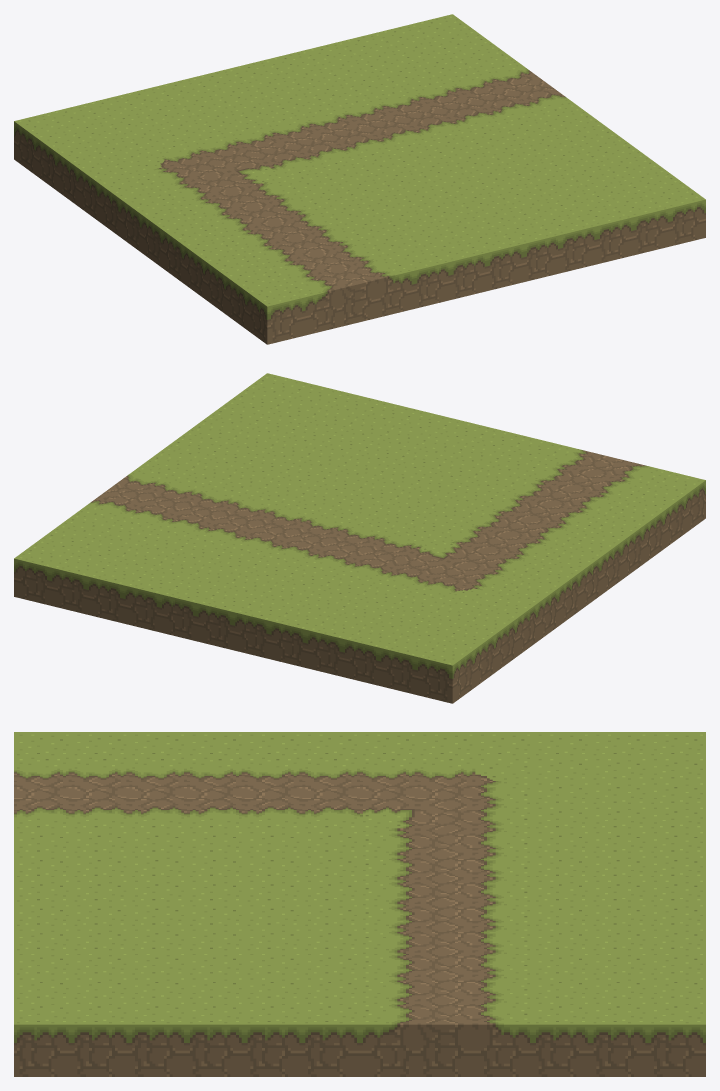
Rendered from map1..7vox.vox.obj.
The picture shows the model from 3 angles, top to bottom: view 1: azimuth 30°, elevation 25°; view 2: azimuth 150°, elevation 25°; view 3: azimuth 270°, elevation 25°; orthographic projection. The views are drawn at different scales.
Bounding box in the file's own units: 24 × 2 × 24.
1 material, 1 textured.
